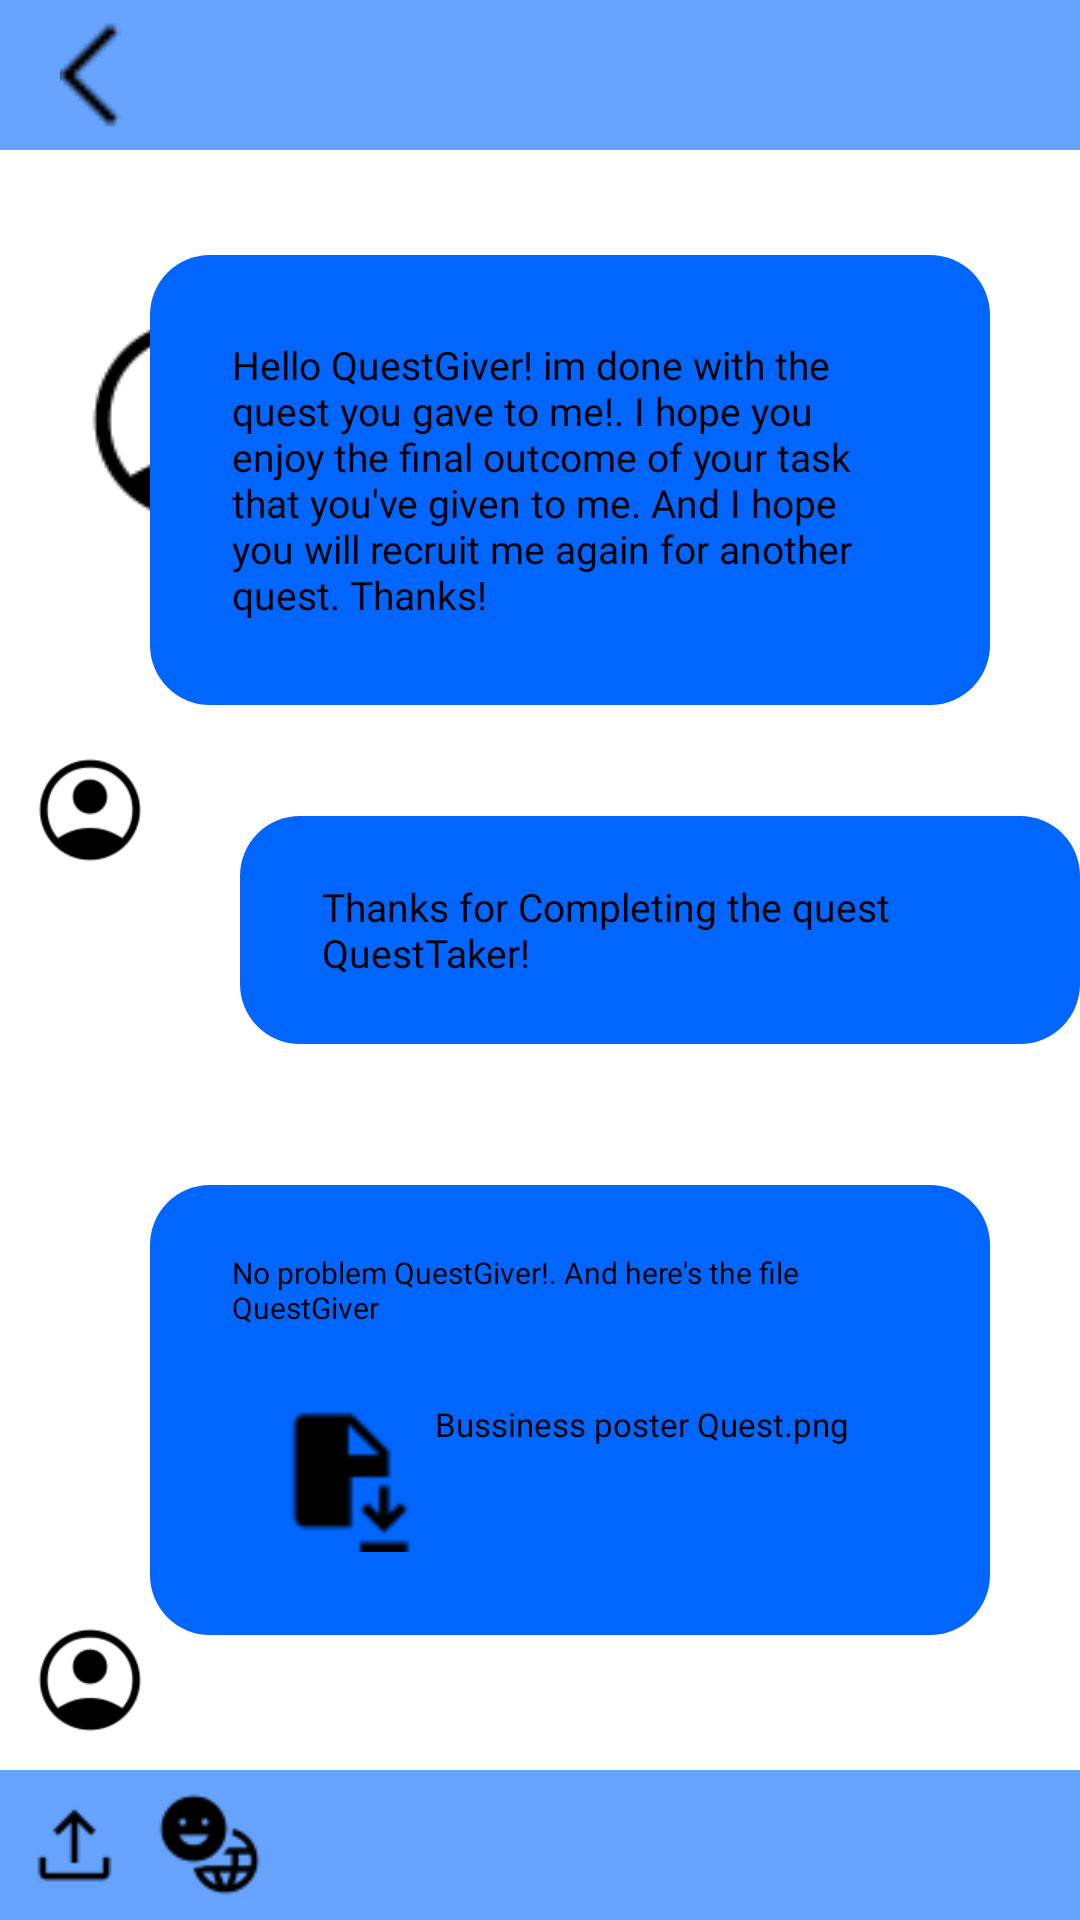

Where icons sit on this 1080px x 1920px app screen, as {"left": x1, "top": y1, "right": x2, "bottom": y2}:
backarrow: {"left": 60, "top": 24, "right": 119, "bottom": 126}
emoticonmsg: {"left": 159, "top": 1794, "right": 260, "bottom": 1895}
filemsgtab: {"left": 292, "top": 1412, "right": 410, "bottom": 1552}
uploadmsg: {"left": 37, "top": 1809, "right": 112, "bottom": 1882}
